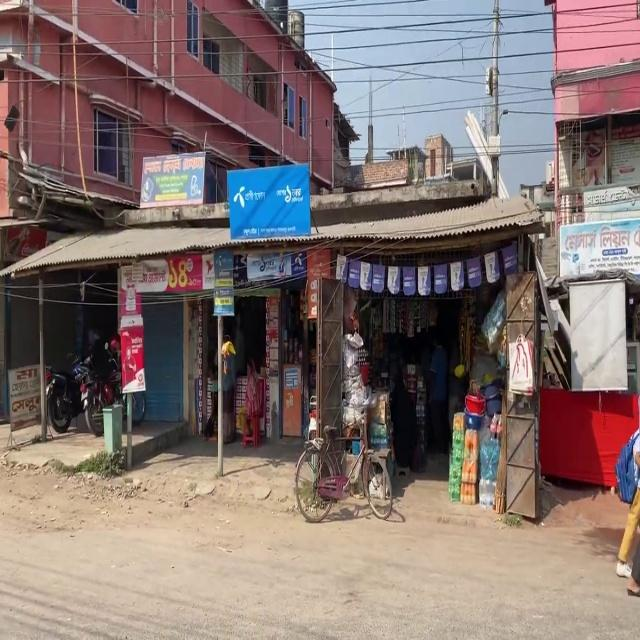Construction-barrier: (1, 417, 190, 473), (121, 419, 189, 469)
Downstairs: (101, 404, 123, 455)
Fallen-tree: (44, 333, 145, 437), (44, 350, 105, 436)
Garbage: (495, 270, 546, 520), (538, 387, 639, 488)
Garbage-bin: (612, 428, 639, 596)
Light-pole: (215, 315, 224, 477)
Rickshaw: (225, 162, 311, 241)
Traffic-cone: (292, 395, 395, 522)
